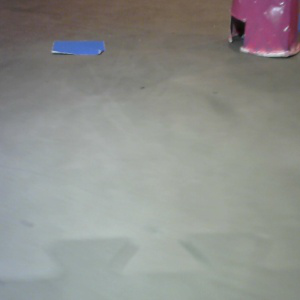right: (226, 1, 300, 57)
